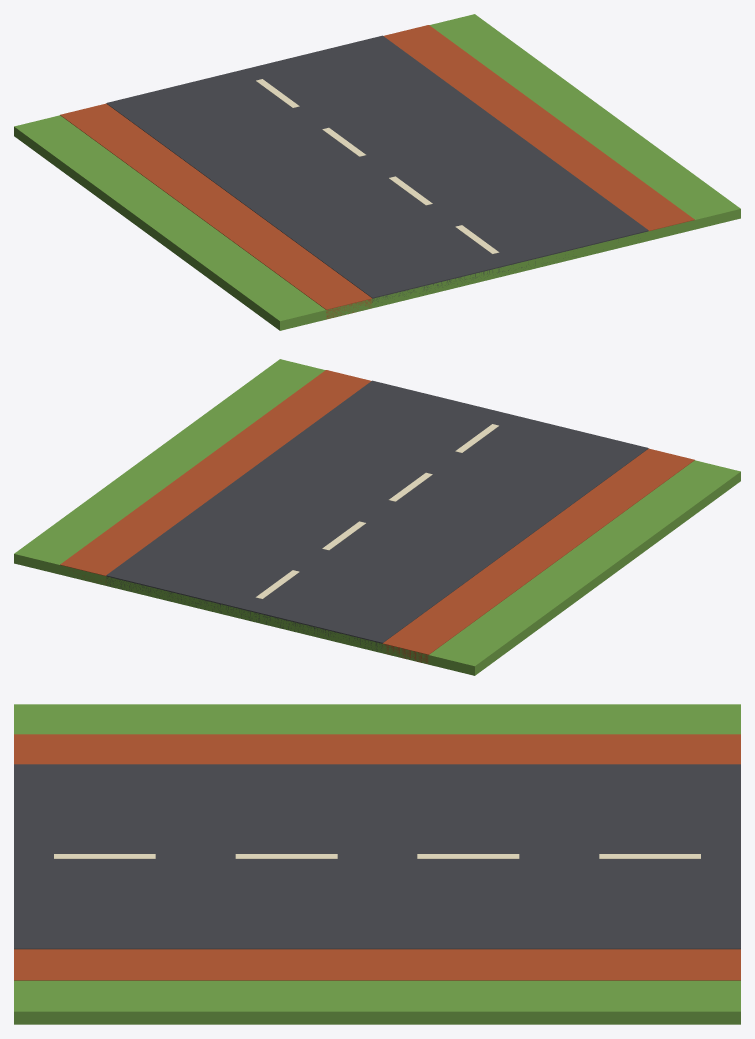
Rendered from ENV_Tile_Road_Asphalt.fbx.
3 renders of one model, top to bottom at view 1: azimuth 30°, elevation 25°; view 2: azimuth 150°, elevation 25°; view 3: azimuth 270°, elevation 25°, orthographic. The views are drawn at different scales.
Parts seen in each view (by area): view 1: ENV_Tile_Road_Asphalt; view 2: ENV_Tile_Road_Asphalt; view 3: ENV_Tile_Road_Asphalt.
Part boxes in pixels (bbox=[...]): ENV_Tile_Road_Asphalt: bbox=[14, 14, 740, 330]; ENV_Tile_Road_Asphalt: bbox=[14, 359, 740, 675]; ENV_Tile_Road_Asphalt: bbox=[14, 704, 740, 1024].
Size of the model in its own units: 10 by 0.23 by 10.
